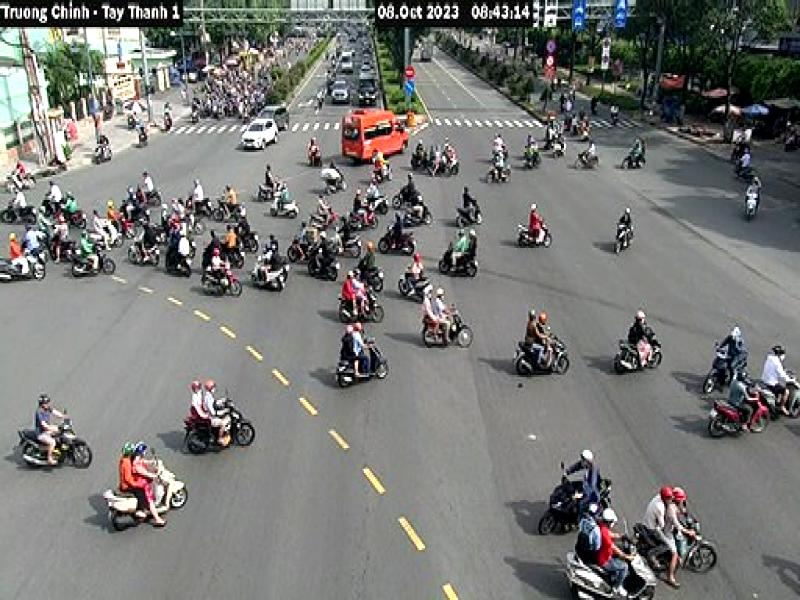car: (342, 107, 416, 168)
motorcycle: (93, 455, 196, 535), (548, 540, 667, 600), (636, 507, 745, 568), (686, 385, 778, 440), (538, 466, 614, 530), (7, 414, 88, 472), (182, 400, 256, 456), (318, 336, 392, 392), (408, 308, 475, 350), (610, 324, 673, 368)
